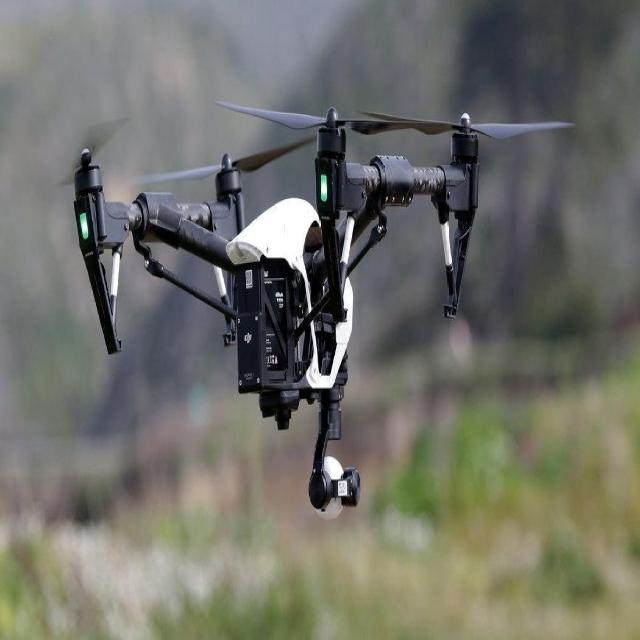drone: (73, 101, 483, 523)
